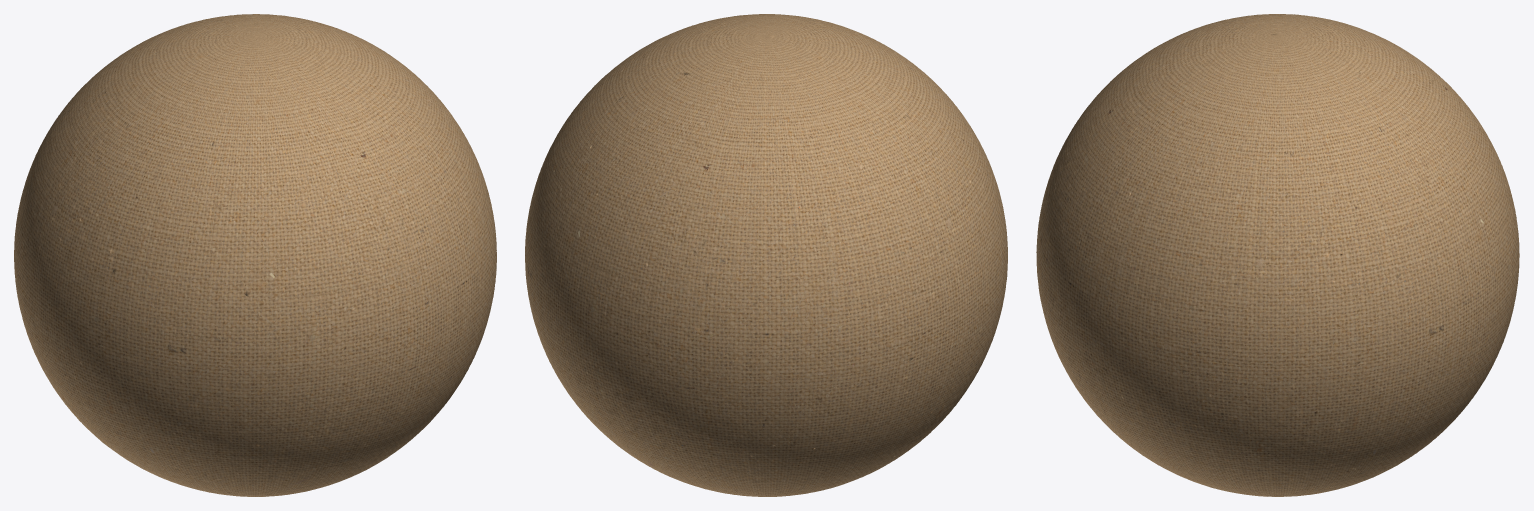
Rendered from hessian_380_2k.gltf.
The picture shows the model from 3 angles, left to right: view 1: azimuth 30°, elevation 25°; view 2: azimuth 150°, elevation 25°; view 3: azimuth 270°, elevation 25°; orthographic projection.
Parts seen in each view (by area): view 1: sphere_gltf; view 2: sphere_gltf; view 3: sphere_gltf.
Part boxes in pixels (x1,y1,x2,y2): sphere_gltf: [14, 14, 496, 496]; sphere_gltf: [525, 14, 1007, 496]; sphere_gltf: [1036, 14, 1519, 496].
Bounding box in the file's own units: 0.2739 × 0.2739 × 0.2739.
Materials: 1 (1 with a texture image).
